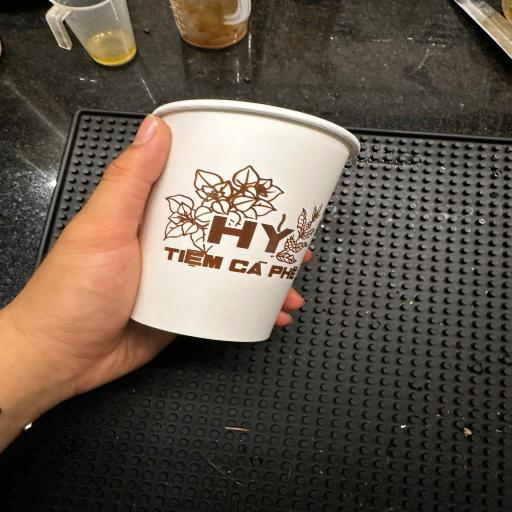ly_giay: (116, 76, 377, 368)
